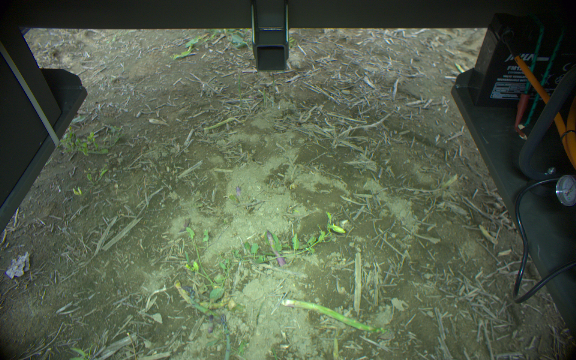aspa: (276, 294, 390, 338), (265, 228, 285, 269)
